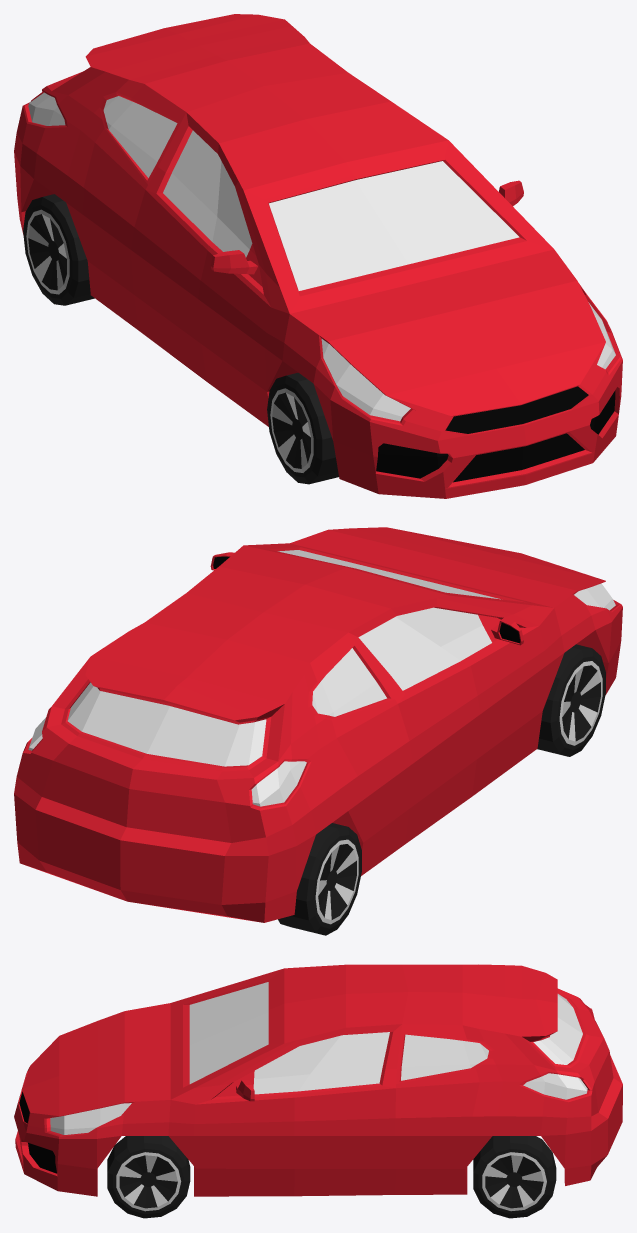
The model's file is 2red.fbx.
The picture shows the model from 3 angles, top to bottom: view 1: azimuth 30°, elevation 25°; view 2: azimuth 150°, elevation 25°; view 3: azimuth 270°, elevation 25°; orthographic projection. The views are drawn at different scales.
Parts seen in each view (by area): view 1: Cube; view 2: Cube; view 3: Cube.
Part boxes in pixels (x1,y1,x2,y2): Cube: (14, 14, 622, 498); Cube: (14, 527, 622, 935); Cube: (14, 964, 622, 1218).
Bounding box in the file's own units: 134 × 95.91 × 303.
